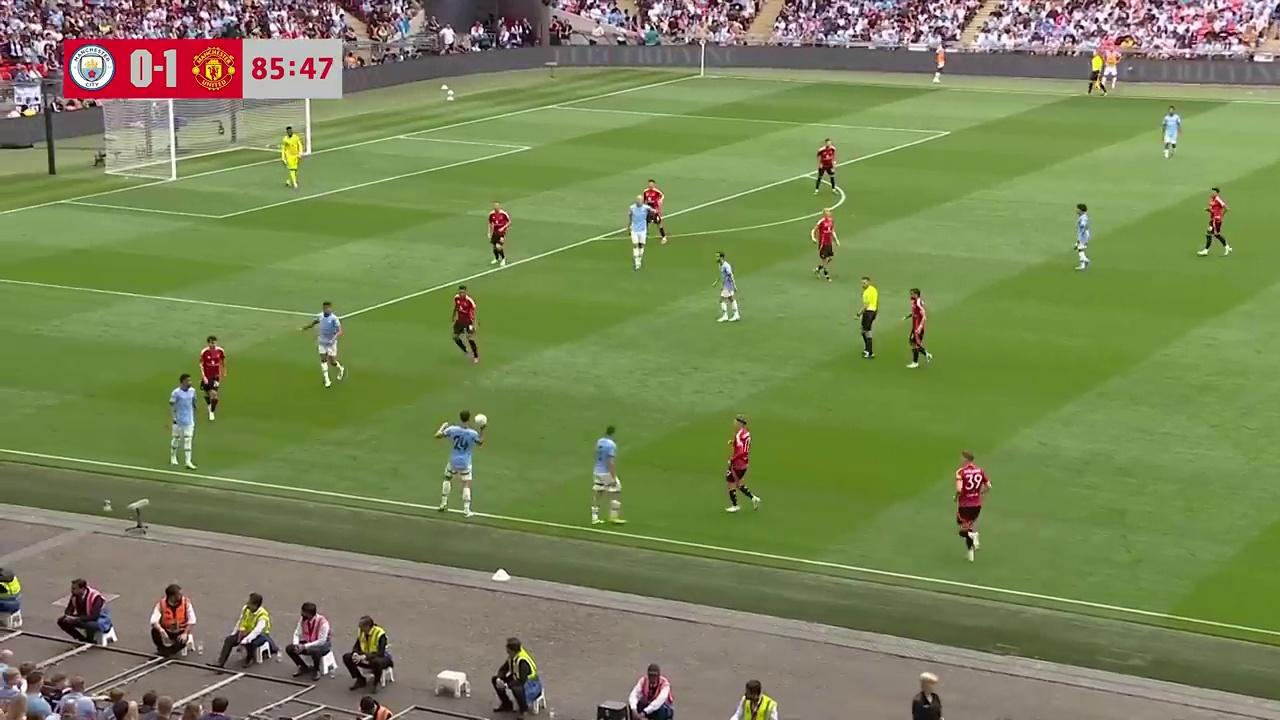ball: (473, 409, 488, 428)
player: (435, 410, 487, 513), (295, 301, 345, 387), (953, 450, 991, 561), (724, 415, 760, 512), (590, 424, 624, 522), (167, 373, 198, 469), (1197, 186, 1231, 256), (199, 335, 226, 422), (903, 288, 931, 368), (451, 284, 479, 363), (811, 209, 840, 283), (714, 251, 740, 323), (625, 197, 648, 271), (641, 178, 667, 243), (487, 201, 511, 268), (279, 126, 303, 189), (814, 140, 840, 195), (1073, 204, 1093, 270), (1160, 105, 1182, 159)
referee: (856, 277, 879, 359), (1086, 51, 1108, 96)
